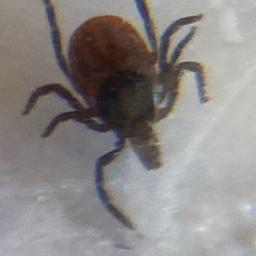Ixodes scapularis: (22, 2, 210, 227)
